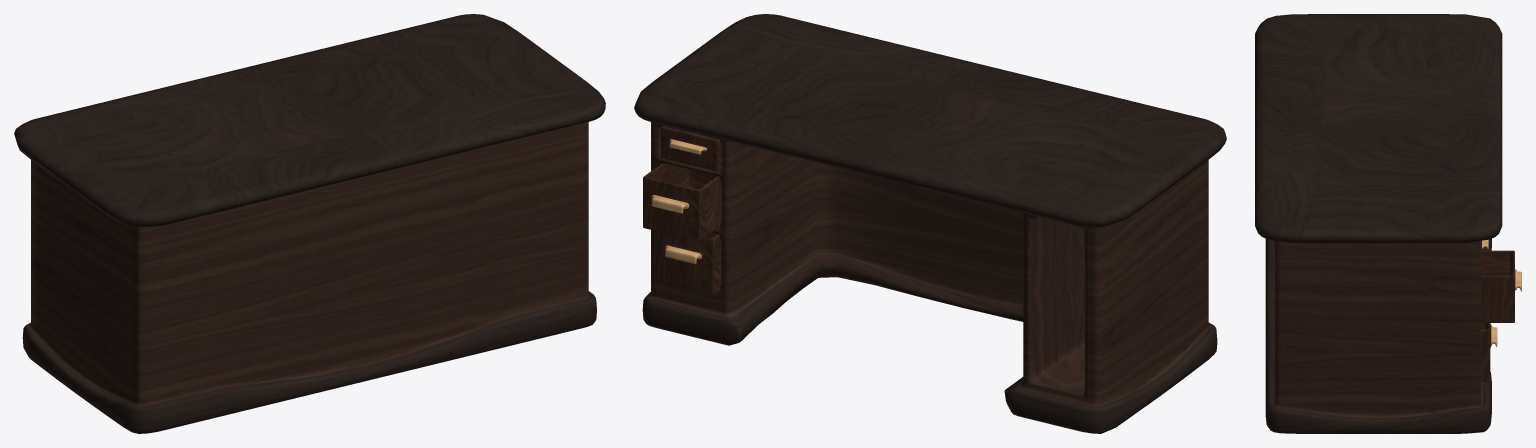
The model's file is desk_office.glb.
3 views of the same model, side by side, from view 1: azimuth 30°, elevation 25°; view 2: azimuth 150°, elevation 25°; view 3: azimuth 270°, elevation 25° (orthographic). The views are drawn at different scales.
Visible parts, largest first — view 1: TellerDesk; view 2: TellerDesk, DeskDraw_2, DeskDraw_1, DeskDraw_3; view 3: TellerDesk, DeskDraw_2, DeskDraw_1.
Part boxes in pixels (x1=…): TellerDesk: x1=14, y1=14, x2=605, y2=433; TellerDesk: x1=634, y1=14, x2=1226, y2=433; DeskDraw_2: x1=643, y1=163, x2=721, y2=241; DeskDraw_1: x1=656, y1=231, x2=721, y2=294; DeskDraw_3: x1=661, y1=126, x2=722, y2=171; TellerDesk: x1=1255, y1=14, x2=1502, y2=433; DeskDraw_2: x1=1481, y1=250, x2=1521, y2=322; DeskDraw_1: x1=1481, y1=323, x2=1497, y2=381.
Size of the model in its own units: 967 by 420 by 491.
3 materials, 3 textured.
